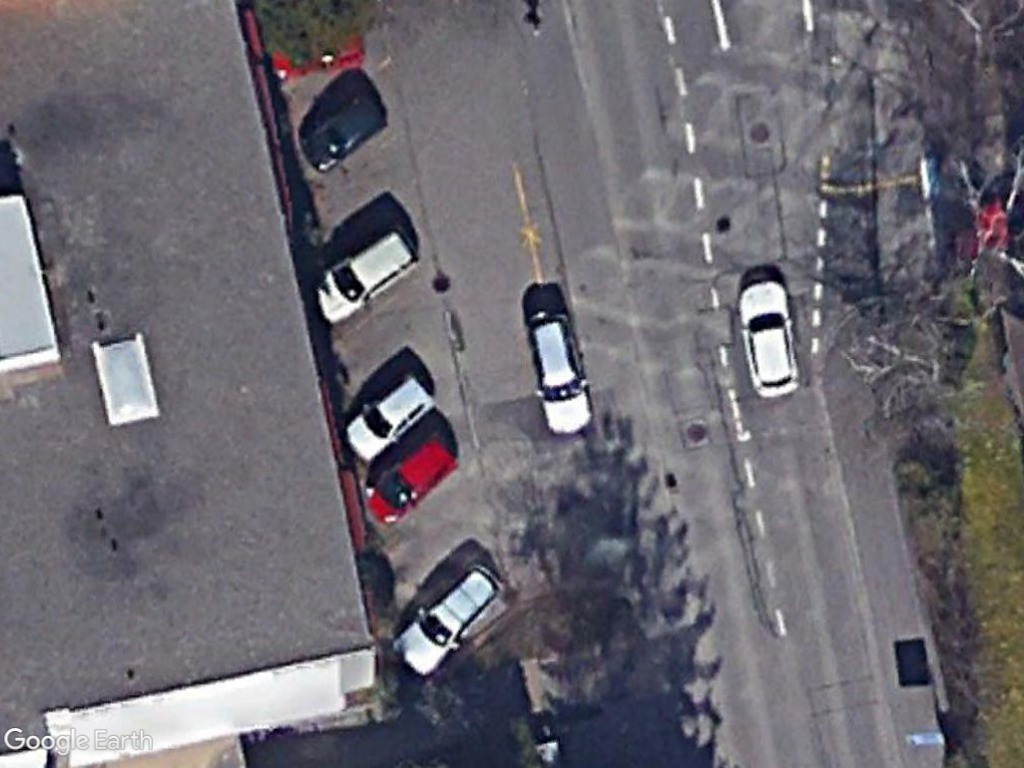car: (389, 561, 507, 676), (314, 222, 424, 319), (522, 310, 595, 440), (364, 431, 461, 527), (342, 373, 441, 464), (736, 275, 806, 402)
